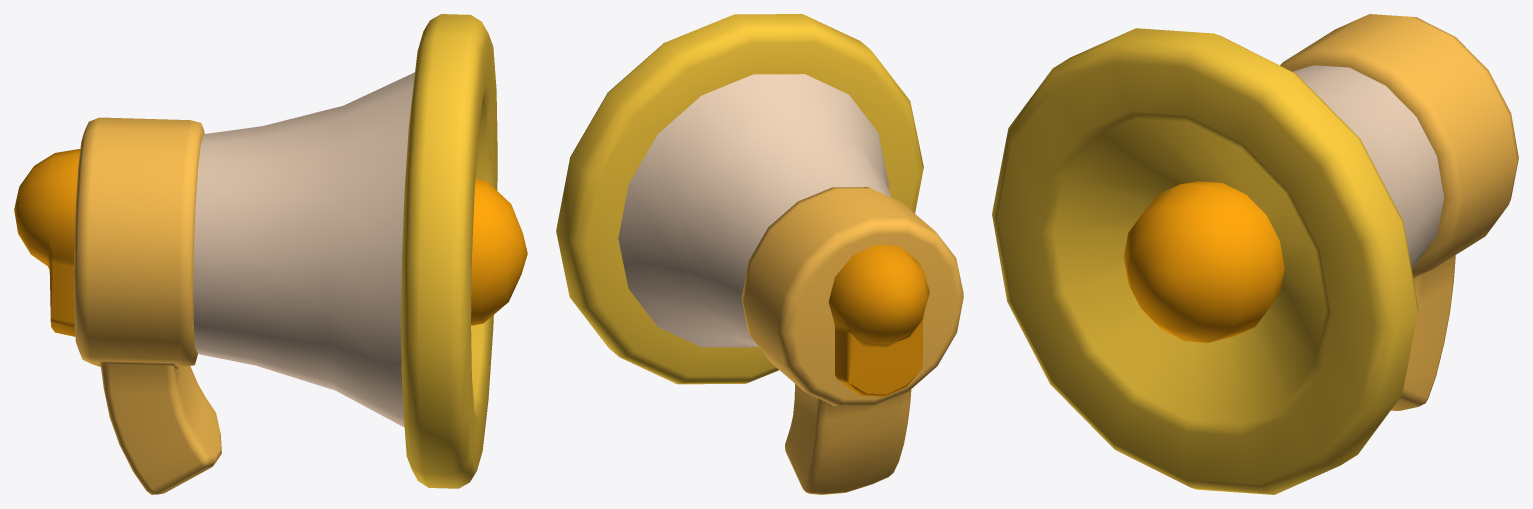
3 renders of one model, left to right at view 1: azimuth 30°, elevation 25°; view 2: azimuth 150°, elevation 25°; view 3: azimuth 270°, elevation 25°, orthographic. The views are drawn at different scales.
Parts seen in each view (by area): view 1: model_1.052; view 2: model_1.052; view 3: model_1.052.
Part boxes in pixels (<box>): model_1.052: <box>14,14,527,494</box>; model_1.052: <box>556,14,963,494</box>; model_1.052: <box>992,14,1518,494</box>.
Bounding box in the file's own units: 4.1 × 3.96 × 4.
